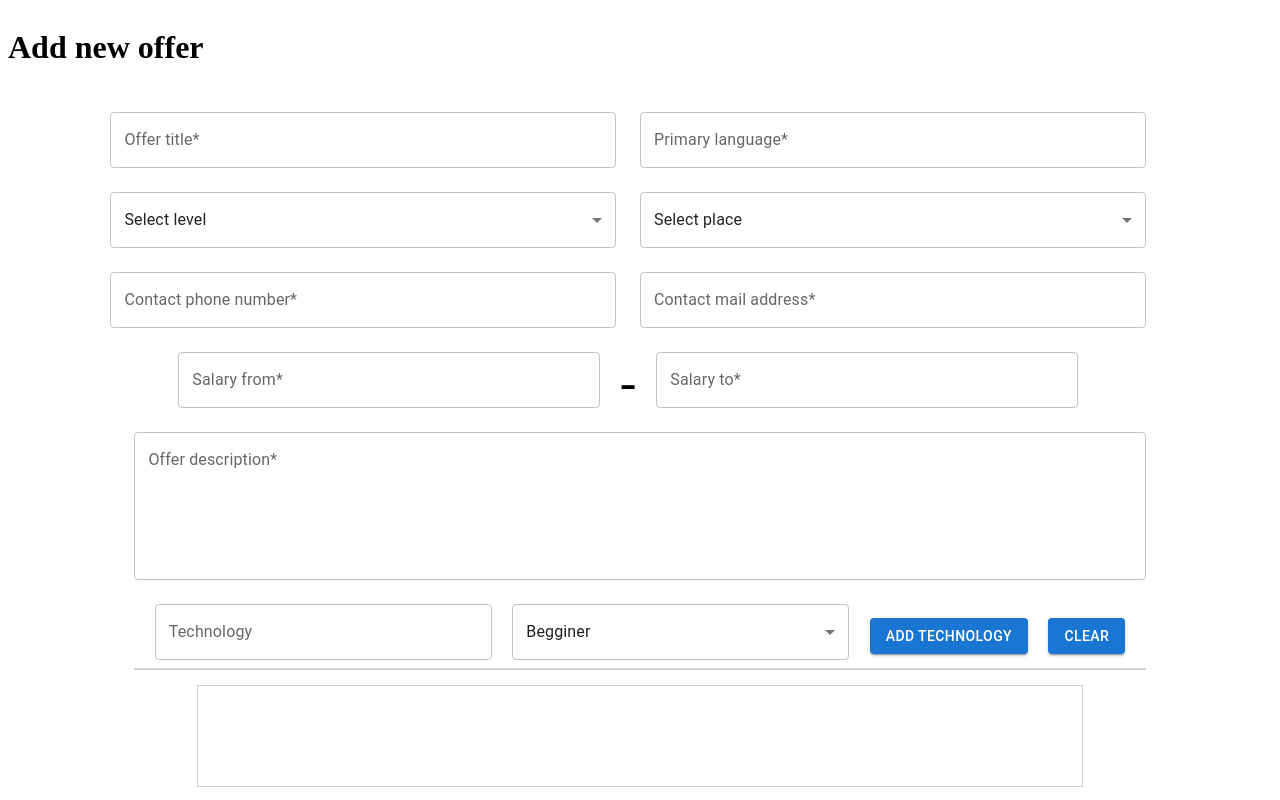
Test: AddNewOfferForm › should add technology to the list when clicking "Add technology" button
In the 4th field: (323, 632) [155,604,492,660], type "React"
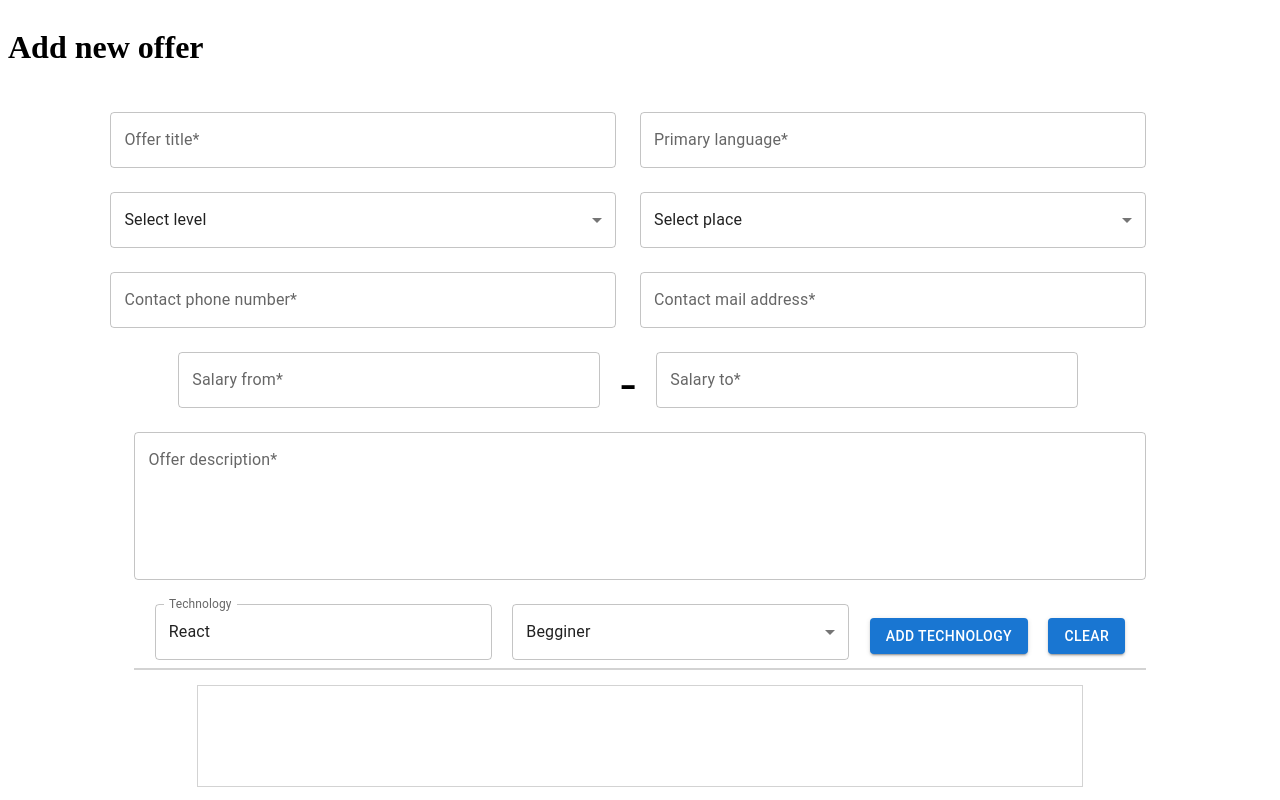
Click the button "Add technology": (949, 636) [870,618,1028,654]
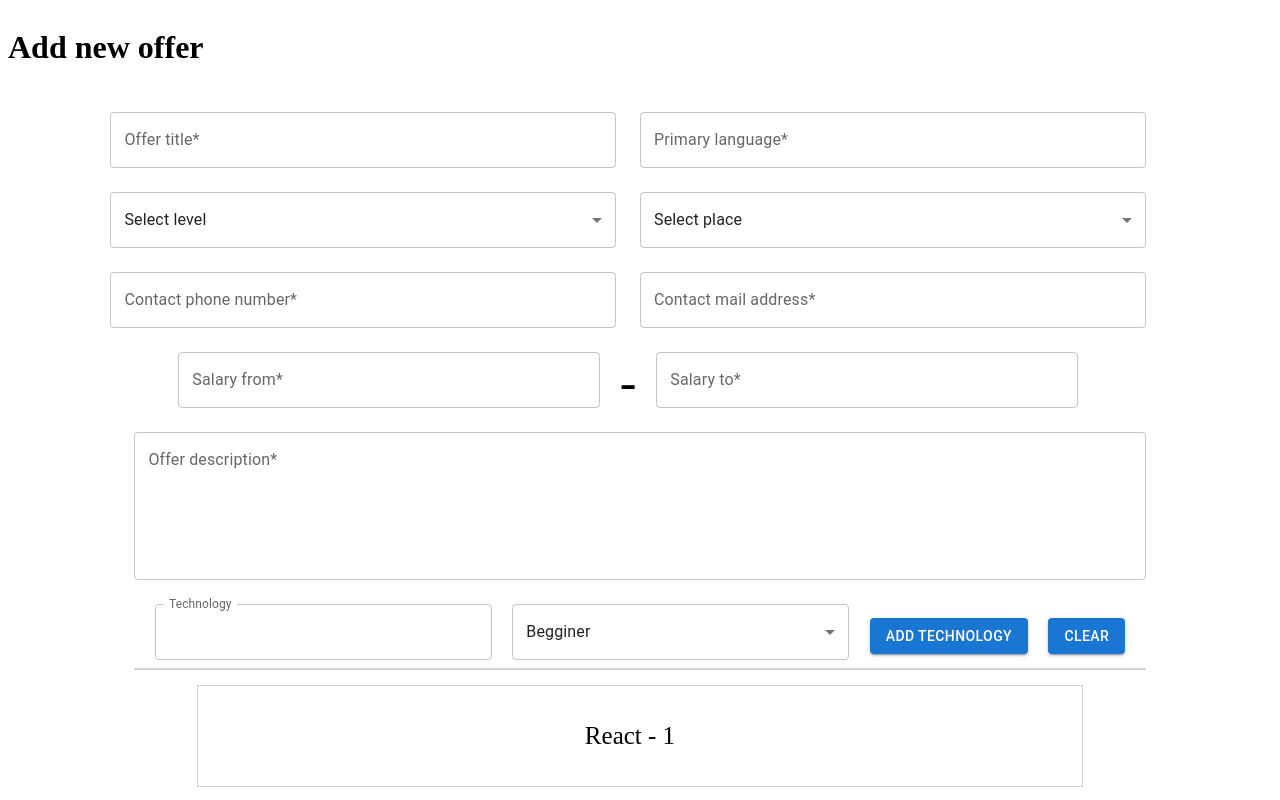
Check: the text "React - 1" is shown, box [585,722,675,750]
